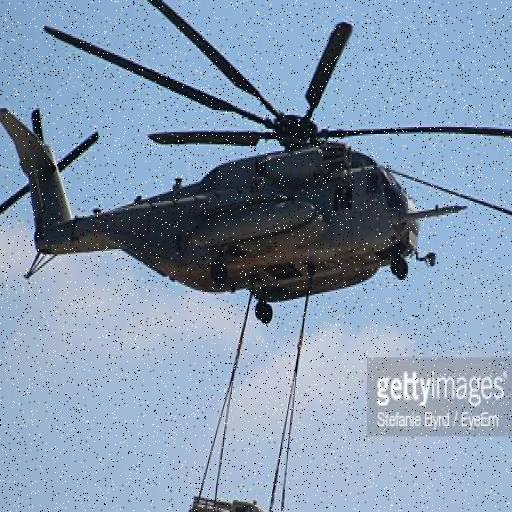helicopter: (1, 1, 512, 336)
